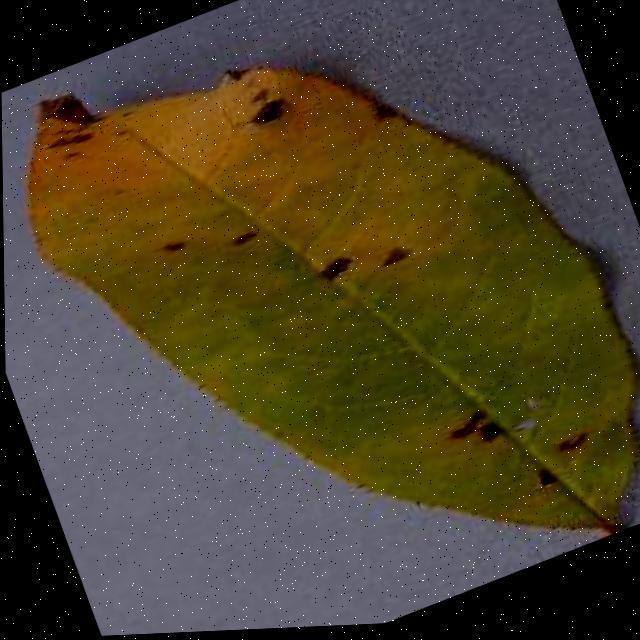Bacterial_spot: (513, 418, 607, 502), (434, 387, 516, 472), (223, 78, 300, 152), (296, 236, 363, 298), (31, 119, 104, 174), (220, 211, 270, 262), (368, 233, 419, 280), (149, 222, 197, 258)
